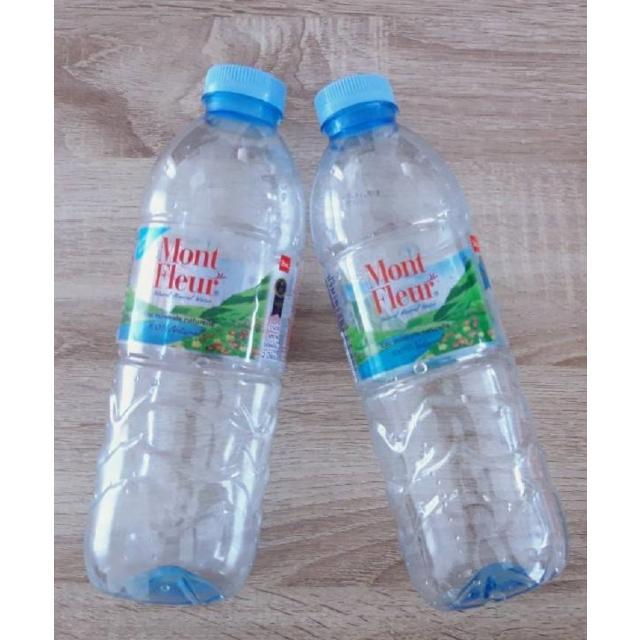Botella de plastico: (311, 78, 565, 610), (85, 65, 304, 605)
